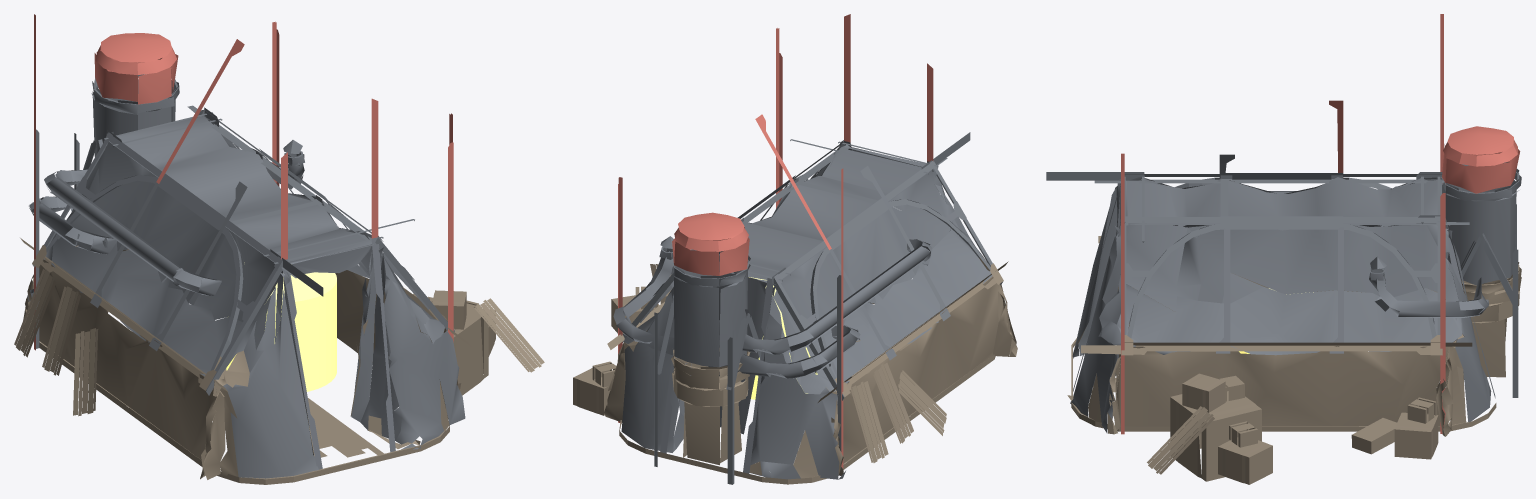
Rendered from clinic.glb.
3 views of the same model, side by side, from view 1: azimuth 30°, elevation 25°; view 2: azimuth 150°, elevation 25°; view 3: azimuth 270°, elevation 25° (orthographic). The views are drawn at different scales.
Parts seen in each view (by area): view 1: clinic_Building; view 2: clinic_Building; view 3: clinic_Building.
Part boxes in pixels (x1,y1,x2,y2): clinic_Building: [14, 14, 544, 484]; clinic_Building: [573, 14, 1017, 484]; clinic_Building: [1046, 14, 1521, 484].
Bounding box in the file's own units: 9.84 × 8.36 × 11.13.
